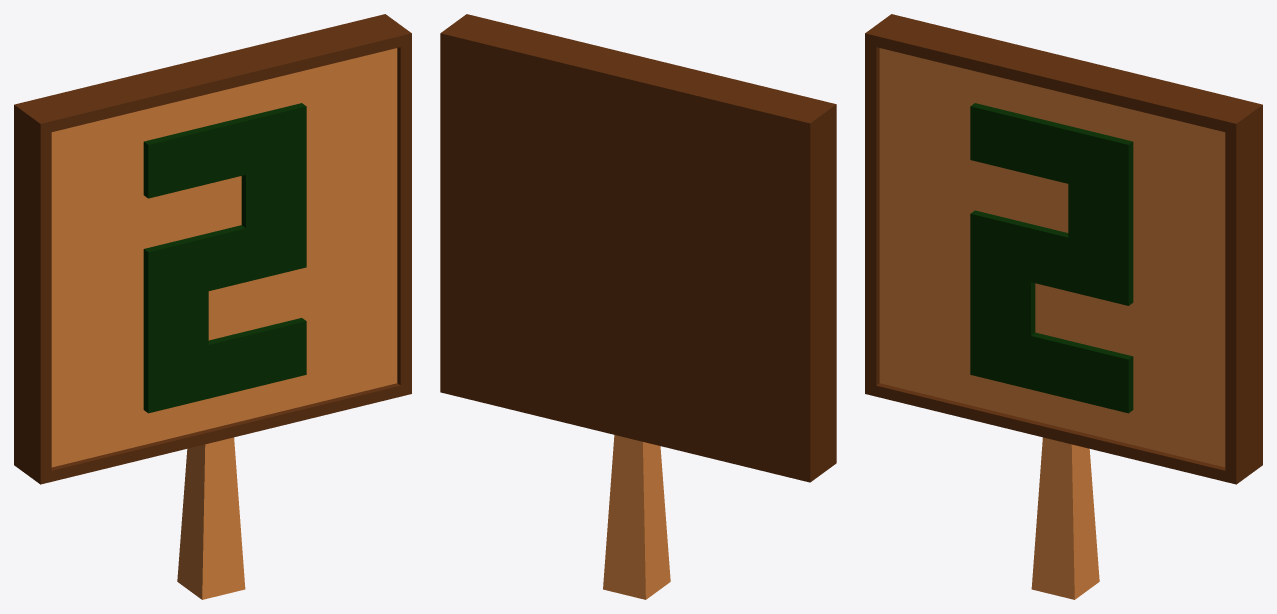
The model's file is Sign_2.fbx.
3 renders of one model, left to right at view 1: azimuth 30°, elevation 25°; view 2: azimuth 150°, elevation 25°; view 3: azimuth 330°, elevation 25°, orthographic.
Visible parts, largest first — view 1: Cube; view 2: Cube; view 3: Cube.
Boxes of the visible parts, box(x1,y1,x2,y2) form: Cube: box(14, 14, 411, 599); Cube: box(440, 14, 836, 599); Cube: box(865, 14, 1262, 599).
Size of the model in its own units: 171 by 228 by 22.86.
